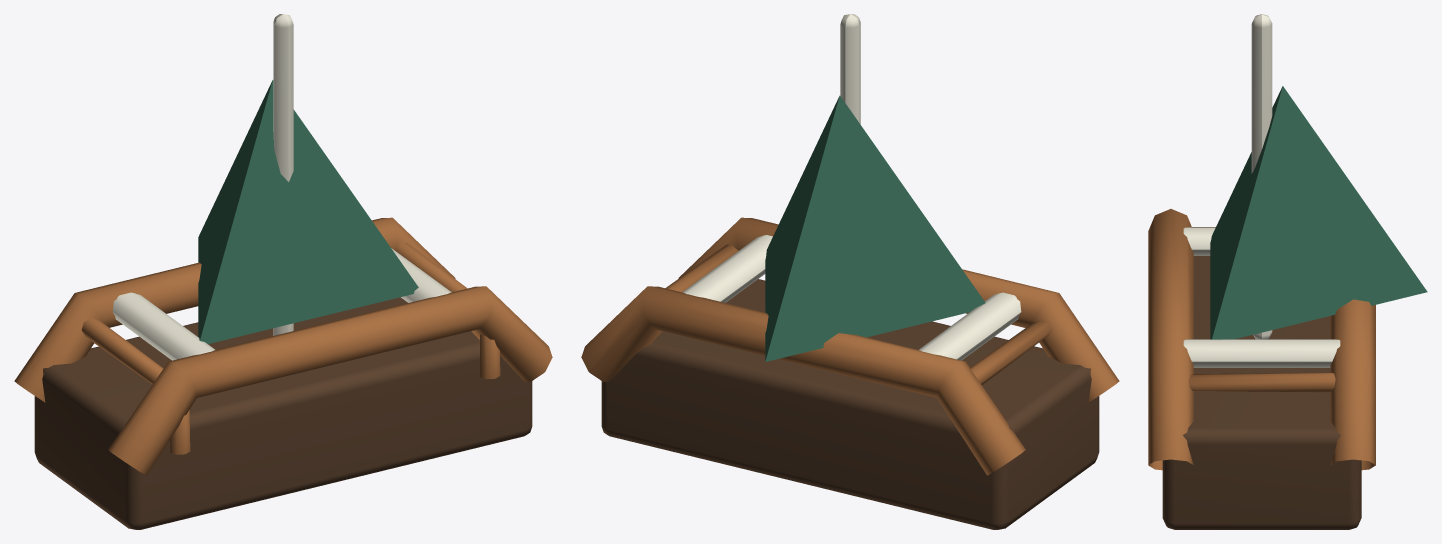
File: finland-forest-boat.glb
The picture shows the model from 3 angles, left to right: view 1: azimuth 30°, elevation 25°; view 2: azimuth 150°, elevation 25°; view 3: azimuth 270°, elevation 25°; orthographic projection. The views are drawn at different scales.
Visible parts, largest first — view 1: こぶねの ふなぞこ, もりの ほ, そりの ふち, そりの ふち.001, はくじゅの ほ, こぶねの ざいた, こぶねの げんそく, こぶねの げんそく.001, こぶねの ざいた.001; view 2: こぶねの ふなぞこ, もりの ほ, そりの ふち.001, そりの ふち, こぶねの ざいた, こぶねの ざいた.001, はくじゅの ほ, こぶねの げんそく, こぶねの げんそく.001; view 3: もりの ほ, こぶねの ふなぞこ, そりの ふち, そりの ふち.001, こぶねの ざいた.001, はくじゅの ほ, こぶねの げんそく.001, こぶねの ざいた.
Boxes of the visible parts, bbox=[...] form: こぶねの ふなぞこ: bbox=[34, 297, 532, 529]; もりの ほ: bbox=[198, 80, 418, 343]; そりの ふち: bbox=[108, 286, 552, 475]; そりの ふち.001: bbox=[14, 217, 455, 402]; はくじゅの ほ: bbox=[273, 14, 293, 335]; こぶねの ざいた: bbox=[112, 292, 214, 360]; こぶねの げんそく: bbox=[81, 318, 190, 454]; こぶねの げんそく.001: bbox=[395, 242, 500, 379]; こぶねの ざいた.001: bbox=[391, 248, 451, 302]; こぶねの ふなぞこ: bbox=[601, 279, 1099, 529]; もりの ほ: bbox=[765, 95, 985, 361]; そりの ふち.001: bbox=[581, 286, 1025, 475]; そりの ふち: bbox=[678, 217, 1119, 402]; こぶねの ざいた: bbox=[919, 292, 1021, 360]; こぶねの ざいた.001: bbox=[682, 235, 772, 302]; はくじゅの ほ: bbox=[840, 14, 860, 124]; こぶねの げんそく: bbox=[970, 320, 1051, 384]; こぶねの げんそく.001: bbox=[665, 244, 738, 292]; もりの ほ: bbox=[1210, 86, 1427, 339]; こぶねの ふなぞこ: bbox=[1162, 256, 1361, 529]; そりの ふち: bbox=[1148, 209, 1193, 470]; そりの ふち.001: bbox=[1330, 299, 1375, 470]; こぶねの ざいた.001: bbox=[1183, 339, 1340, 367]; はくじゅの ほ: bbox=[1251, 14, 1272, 339]; こぶねの げんそく.001: bbox=[1189, 372, 1335, 392]; こぶねの ざいた: bbox=[1183, 227, 1215, 255].
Size of the model in its own units: 1.18 by 1.13 by 0.675.
